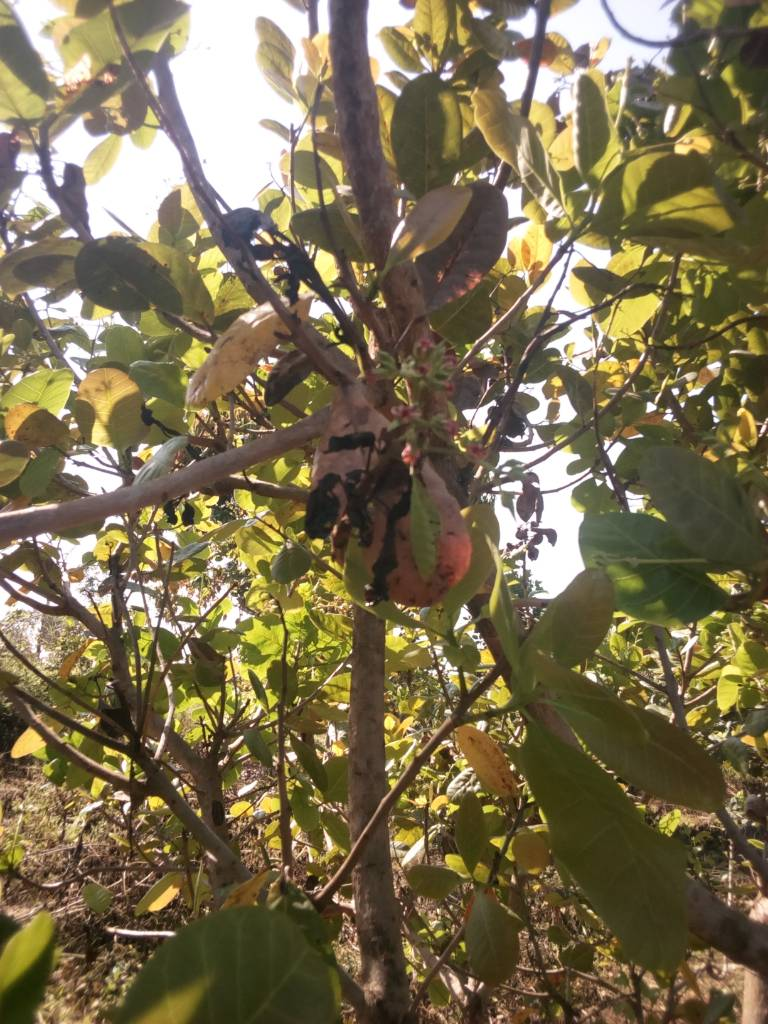Dessèchement des bourgeons: (293, 416, 411, 599)
